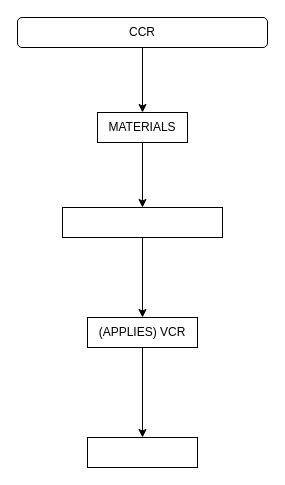
The diagram is 285 pixels wide and 485 high, and some of its shapes have lost their labels. The centre of each missing label's shape, as x and y in pixels:
(APPLIES) RMA: the point at 142,452
CORRECTIVE ACTIONS: the point at 142,222
